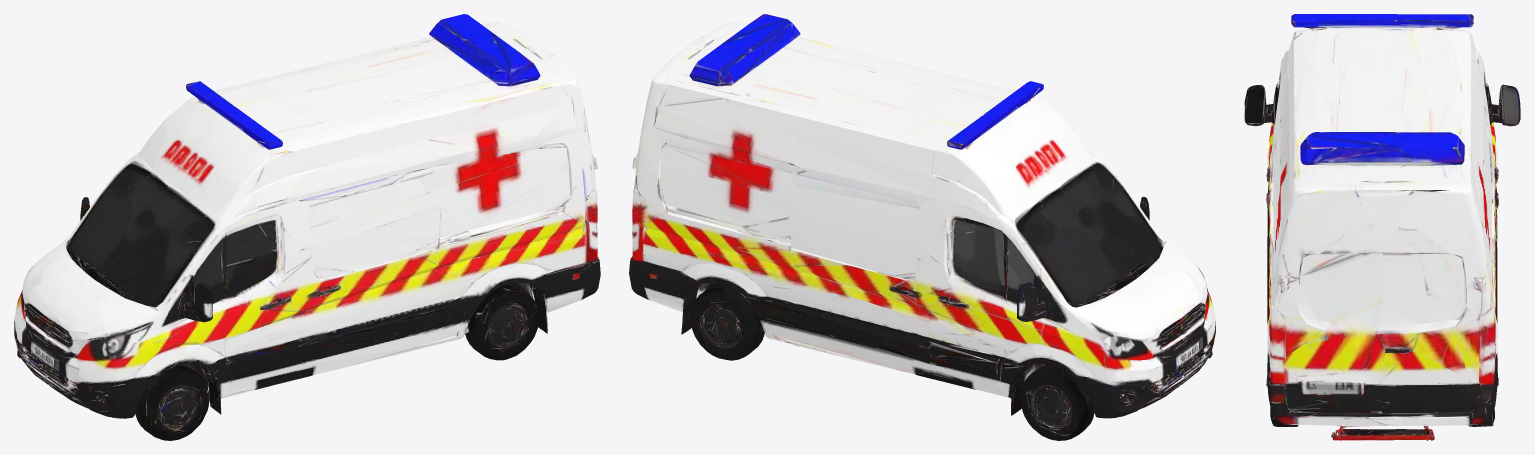
Rendered from ambulance.glb.
3 renders of one model, left to right at view 1: azimuth 30°, elevation 25°; view 2: azimuth 150°, elevation 25°; view 3: azimuth 270°, elevation 25°, orthographic. The views are drawn at different scales.
Size of the model in its own units: 1.89 by 0.9657 by 0.8093.
Materials: 1 (1 with a texture image).
